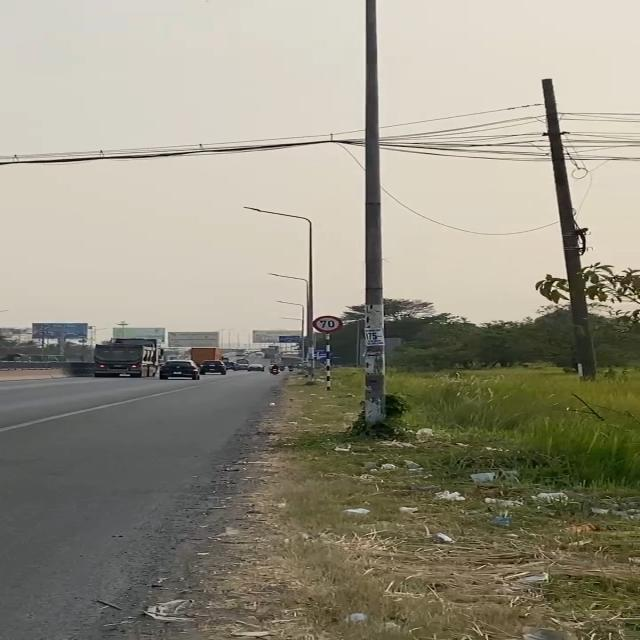127-toc-do-toi-da-70: (313, 315, 343, 333)
